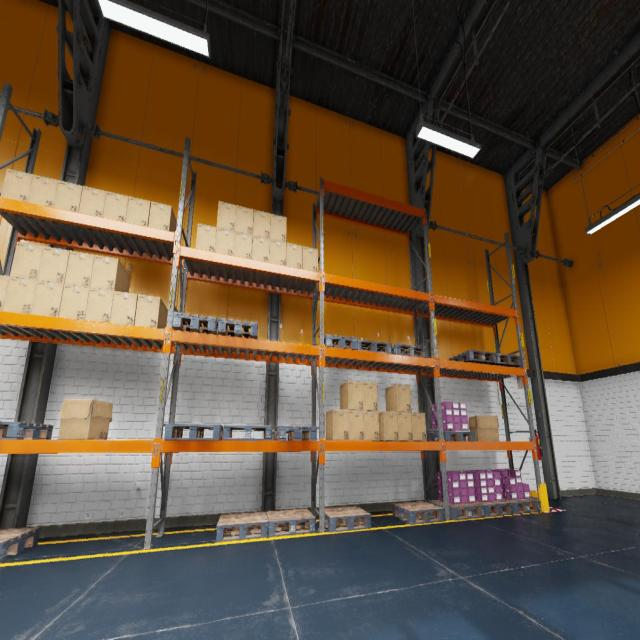box: (58, 399, 112, 439), (90, 255, 130, 292), (10, 242, 44, 280), (2, 277, 37, 313), (37, 246, 70, 284), (31, 280, 64, 316), (134, 294, 168, 328), (0, 168, 33, 202), (64, 250, 95, 286), (59, 284, 89, 319), (28, 174, 58, 207), (85, 288, 114, 322), (53, 180, 83, 212), (110, 291, 138, 325), (148, 202, 177, 232), (79, 185, 106, 217), (469, 415, 499, 441), (102, 192, 128, 222), (386, 384, 412, 412), (126, 196, 150, 226), (340, 381, 363, 410), (326, 410, 348, 440), (235, 205, 253, 241), (378, 412, 398, 441), (196, 223, 216, 252), (217, 201, 236, 230), (215, 228, 235, 255), (270, 213, 287, 242), (253, 209, 270, 238), (252, 235, 270, 262), (234, 232, 252, 259), (348, 410, 364, 440), (411, 412, 427, 441), (269, 239, 286, 265), (363, 382, 378, 411), (364, 411, 379, 440), (286, 242, 302, 268), (302, 246, 318, 271), (398, 412, 412, 440), (0, 274, 9, 310)
pallets: (216, 512, 268, 542), (266, 508, 316, 537), (0, 527, 41, 562), (325, 506, 371, 532), (392, 502, 445, 524), (432, 500, 485, 520), (172, 312, 218, 334), (0, 421, 53, 439), (164, 424, 223, 439), (217, 318, 258, 338), (492, 498, 542, 514), (223, 425, 272, 440), (449, 349, 496, 364), (474, 500, 514, 517), (274, 426, 316, 440), (324, 334, 358, 350), (426, 431, 476, 441), (487, 353, 521, 367), (391, 344, 427, 357), (358, 340, 392, 353)
